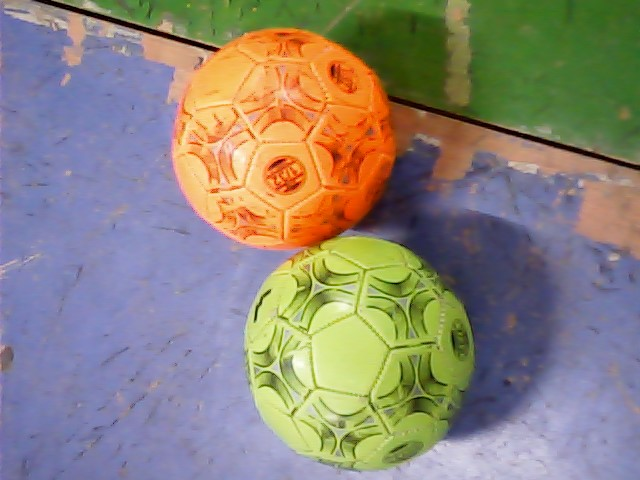Green_ball: (237, 233, 480, 476)
Orange_ball: (165, 23, 392, 250)
